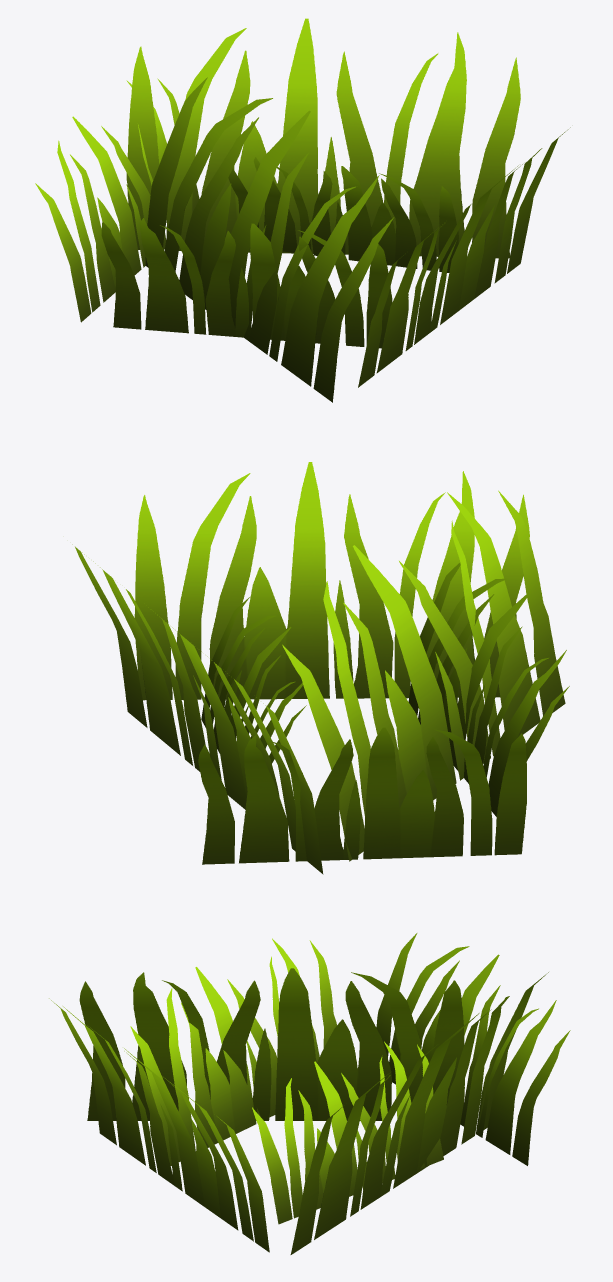
Rendered from Grass 1.FBX.
The picture shows the model from 3 angles, top to bottom: view 1: azimuth 30°, elevation 25°; view 2: azimuth 150°, elevation 25°; view 3: azimuth 270°, elevation 25°; orthographic projection. The views are drawn at different scales.
Visible parts, largest first — view 1: Plane007; view 2: Plane007; view 3: Plane007.
Part boxes in pixels (<box>): Plane007: <box>35,18,570,402</box>; Plane007: <box>72,462,569,874</box>; Plane007: <box>49,933,570,1254</box>.
Bounding box in the file's own units: 11.99 × 4.49 × 12.42.
Materials: 1 (1 with a texture image).
